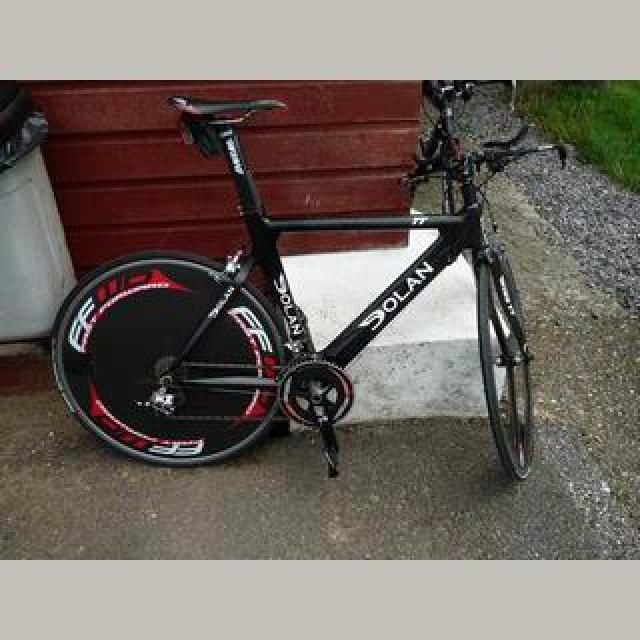Person: (49, 81, 553, 473)
